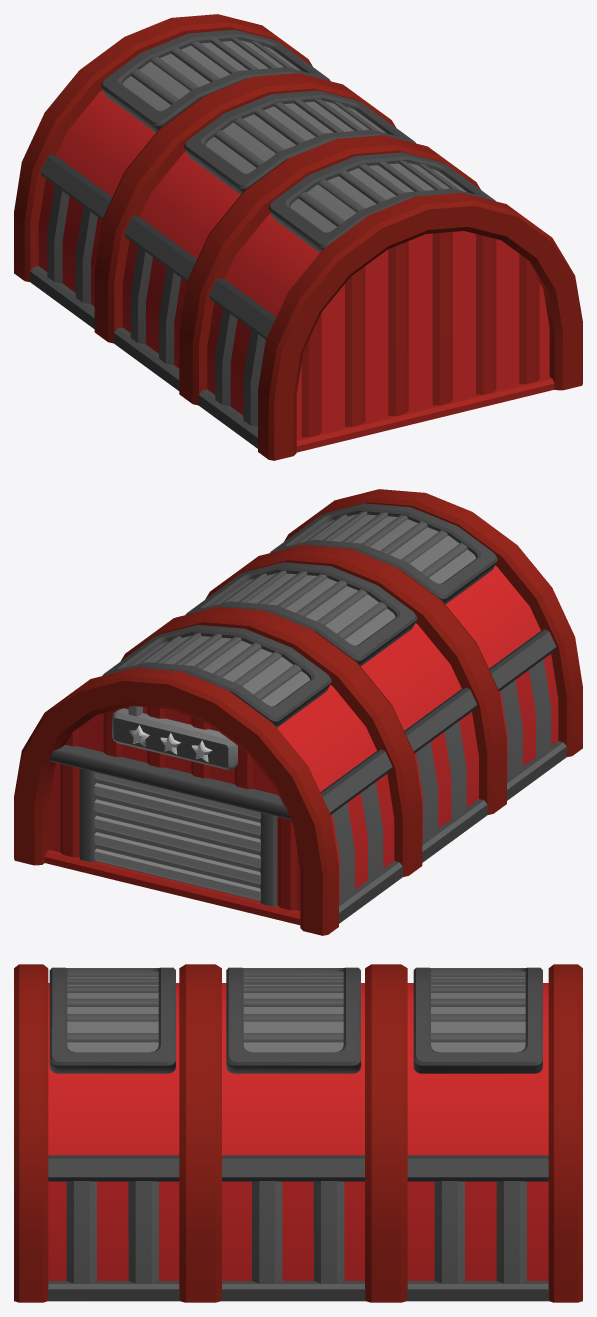
Rendered from Hangar_1_F.fbx.
3 views of the same model, one above another, from view 1: azimuth 30°, elevation 25°; view 2: azimuth 150°, elevation 25°; view 3: azimuth 270°, elevation 25° (orthographic). The views are drawn at different scales.
Visible parts, largest first — view 1: Hangar_1_F; view 2: Hangar_1_F; view 3: Hangar_1_F.
Part boxes in pixels (left/top/right/bottom): Hangar_1_F: left=14, top=14, right=582, bottom=460; Hangar_1_F: left=14, top=489, right=582, bottom=935; Hangar_1_F: left=14, top=964, right=582, bottom=1302.
Size of the model in its own units: 1011 by 668 by 1447.
